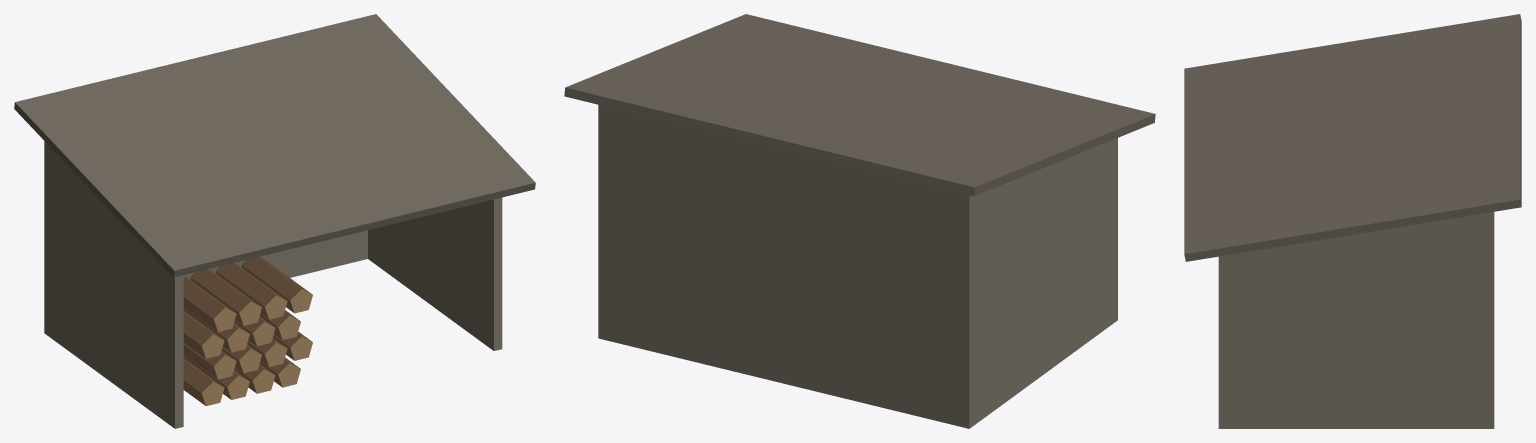
File: shed.glb
3 views of the same model, side by side, from view 1: azimuth 30°, elevation 25°; view 2: azimuth 150°, elevation 25°; view 3: azimuth 270°, elevation 25° (orthographic). The views are drawn at different scales.
Parts seen in each view (by area): view 1: shed; view 2: shed; view 3: shed.
Boxes of the visible parts, <box> form: shed: <box>14,14,535,428</box>; shed: <box>564,14,1155,428</box>; shed: <box>1184,14,1521,428</box>.
Size of the model in its own units: 5.1 by 3.05 by 3.92.
